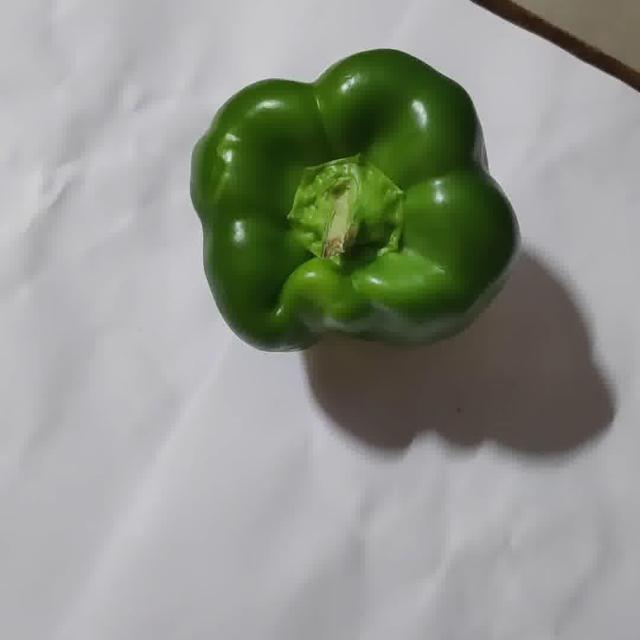Bell Pepper: (191, 49, 516, 351)
